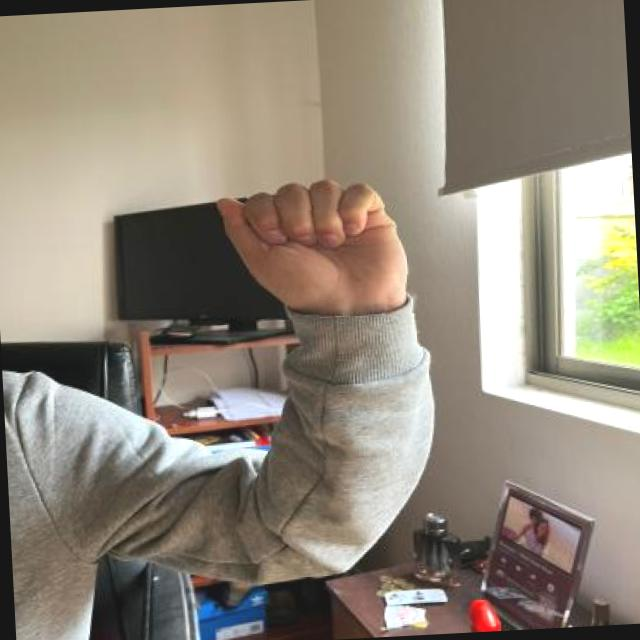A: (212, 169, 418, 323)
